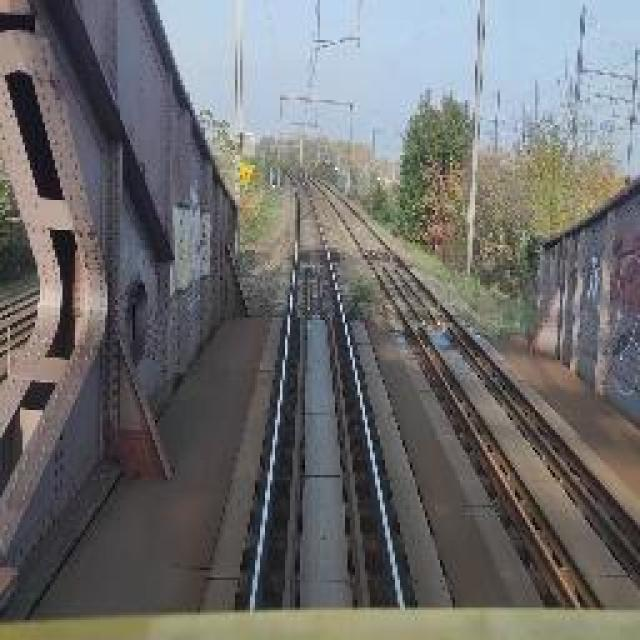rail: (303, 173, 640, 610), (220, 170, 434, 609)
